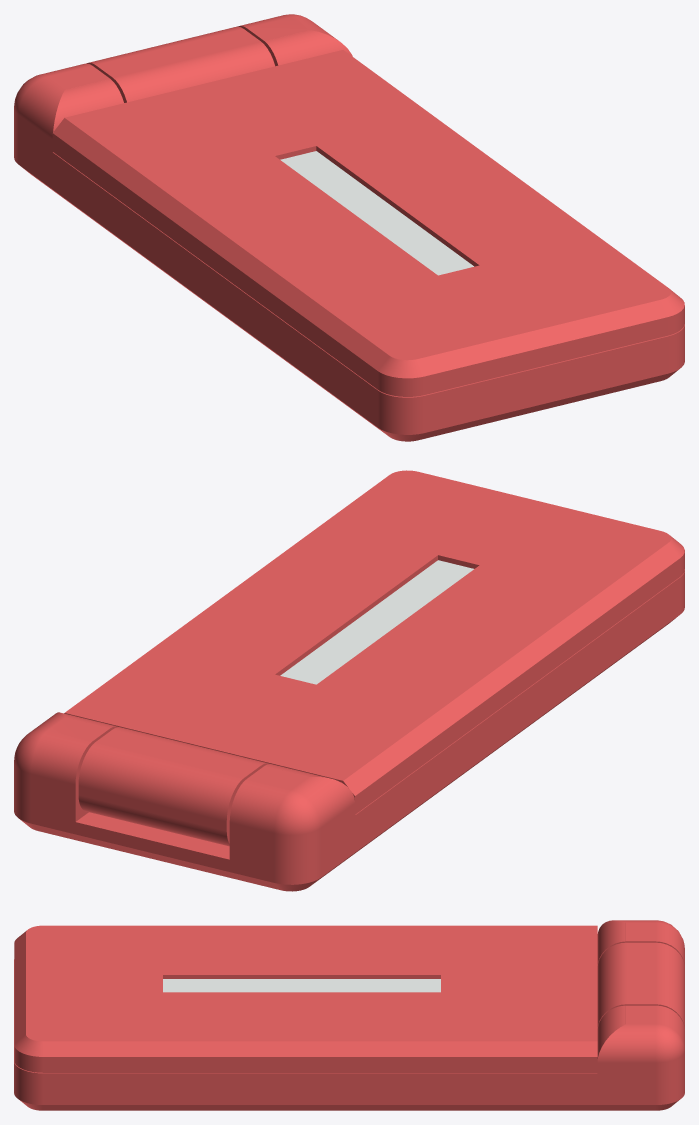
Rendered from 002_ガラケー閉.glb.
3 renders of one model, top to bottom at view 1: azimuth 30°, elevation 25°; view 2: azimuth 150°, elevation 25°; view 3: azimuth 270°, elevation 25°, orthographic. The views are drawn at different scales.
Parts seen in each view (by area): view 1: 画面, ボディ; view 2: 画面, ボディ; view 3: 画面, ボディ.
Boxes of the visible parts, bbox=[...] form: 画面: bbox=[52, 50, 684, 396]; ボディ: bbox=[14, 14, 684, 441]; 画面: bbox=[64, 470, 684, 814]; ボディ: bbox=[14, 569, 684, 891]; 画面: bbox=[14, 925, 597, 1072]; ボディ: bbox=[14, 920, 684, 1110].
Bounding box in the file's own units: 0.051 × 0.016 × 0.115.
